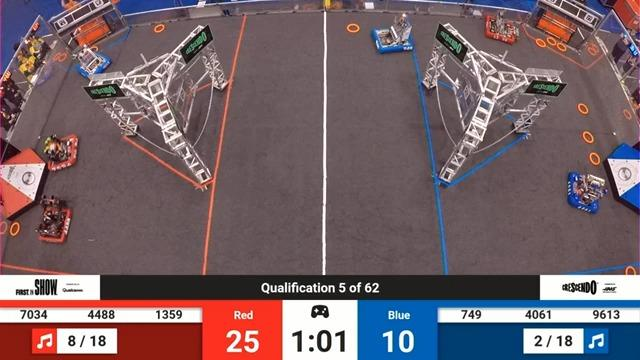robot: (31, 193, 76, 253), (563, 167, 608, 219), (34, 129, 84, 173), (67, 43, 113, 85), (372, 17, 414, 56), (483, 6, 521, 48)
